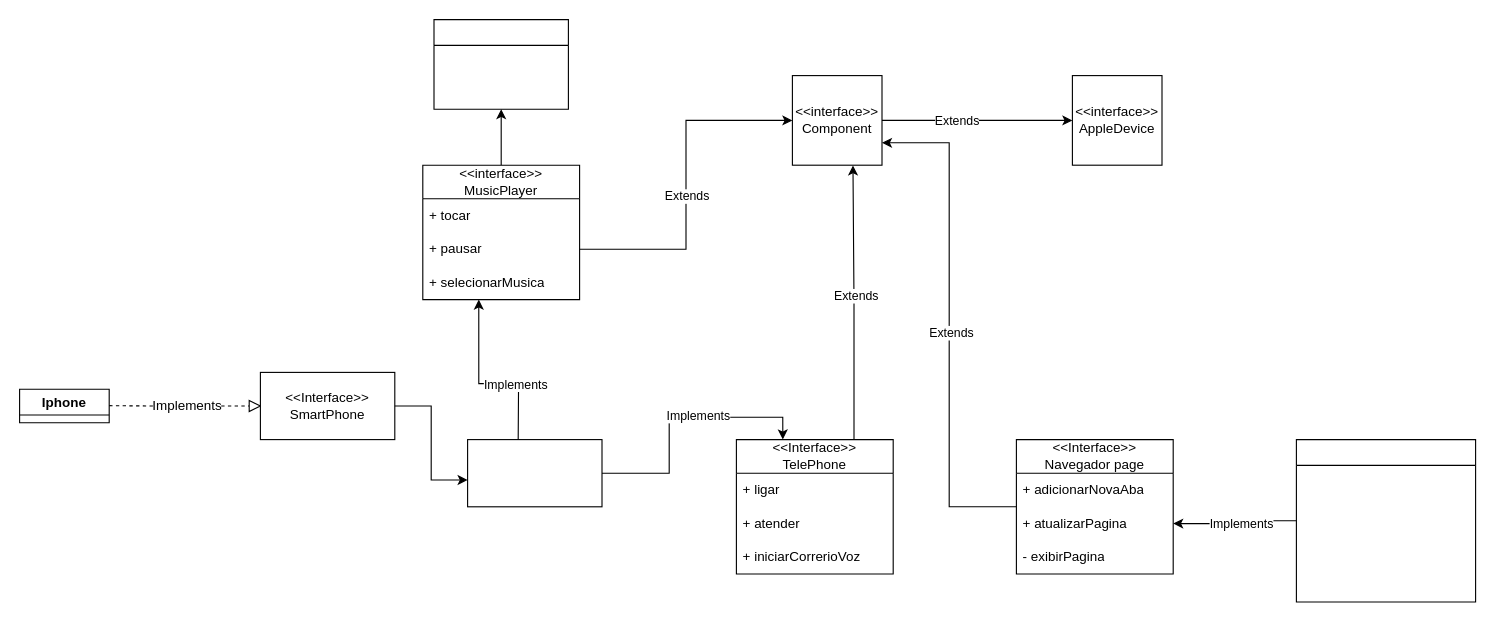
Some shapes in this 1495 by 622 pixel diagram are drawn without their labels. The shapes that lost their labels are listed below. From the top down, each one's centre as x and y in pixels, then its label:
the point at 500,63: Ipod
the point at 534,472: <<Interface>> MobilePhone
the point at 1385,520: macintosh
